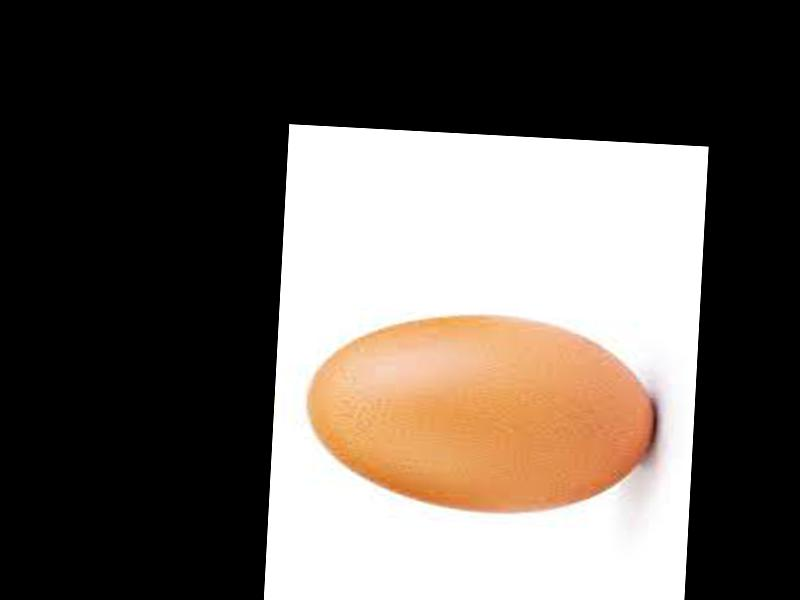Eggs: (301, 308, 659, 519)
